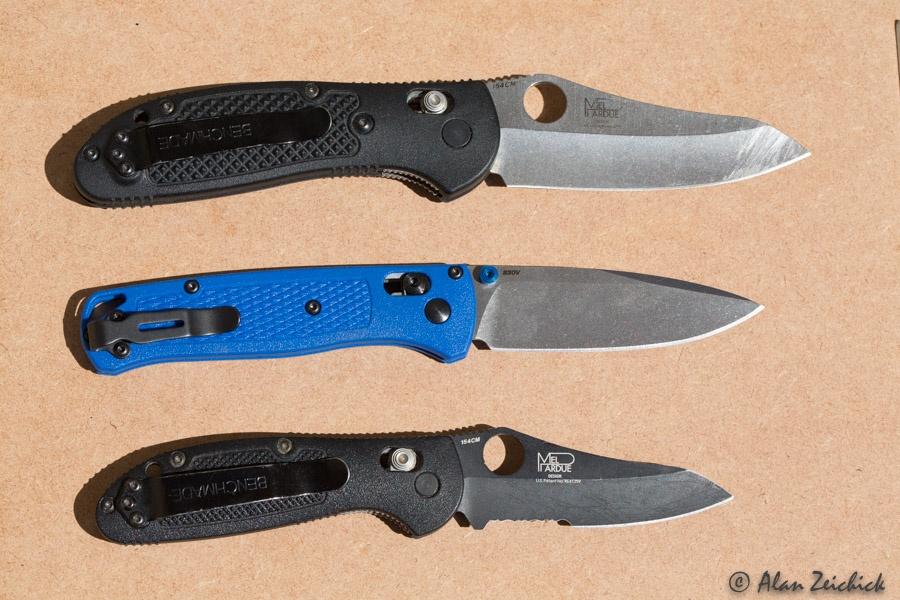knife: (69, 72, 814, 213), (77, 260, 767, 380), (91, 423, 735, 548)
